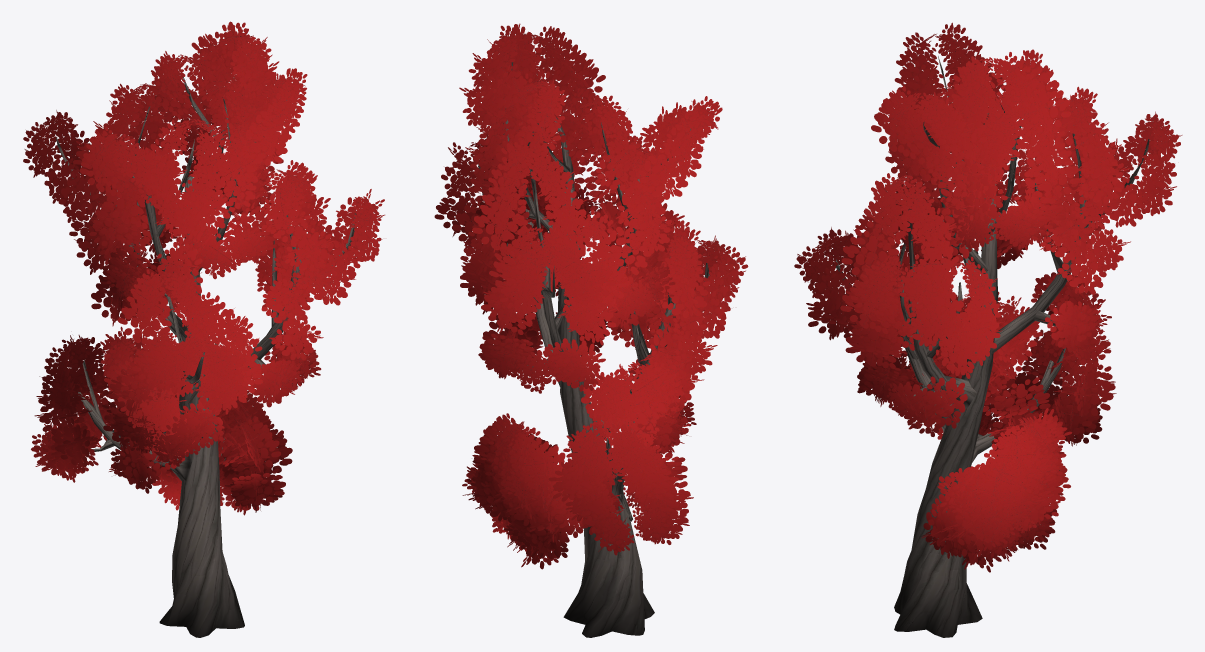
The model's file is tree-late-4-mature.glb.
3 views of the same model, side by side, from view 1: azimuth 30°, elevation 25°; view 2: azimuth 150°, elevation 25°; view 3: azimuth 270°, elevation 25° (orthographic). The views are drawn at different scales.
Parts seen in each view (by area): view 1: TwistedTree_4; view 2: TwistedTree_4; view 3: TwistedTree_4.
Boxes of the visible parts, x1=… form: TwistedTree_4: x1=23, y1=21, x2=384, y2=637; TwistedTree_4: x1=434, y1=23, x2=748, y2=637; TwistedTree_4: x1=794, y1=22, x2=1182, y2=637.
Bounding box in the file's own units: 3.53 × 6.38 × 3.86.
2 materials, 2 textured.
